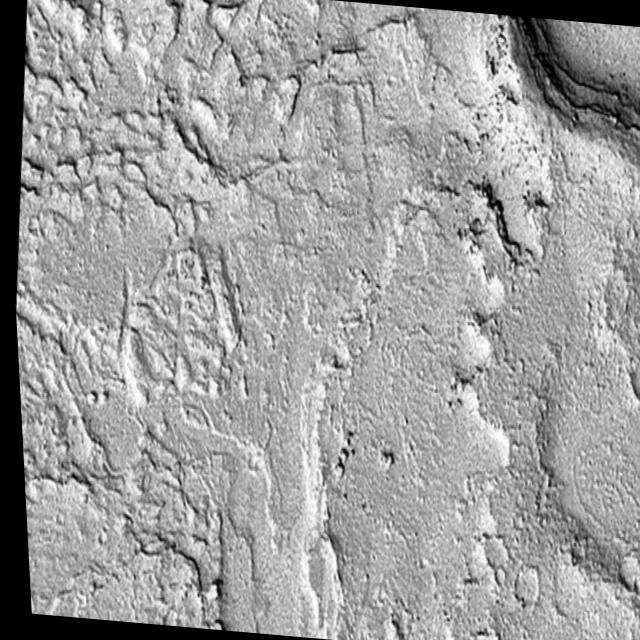Crater: (473, 13, 640, 176)
